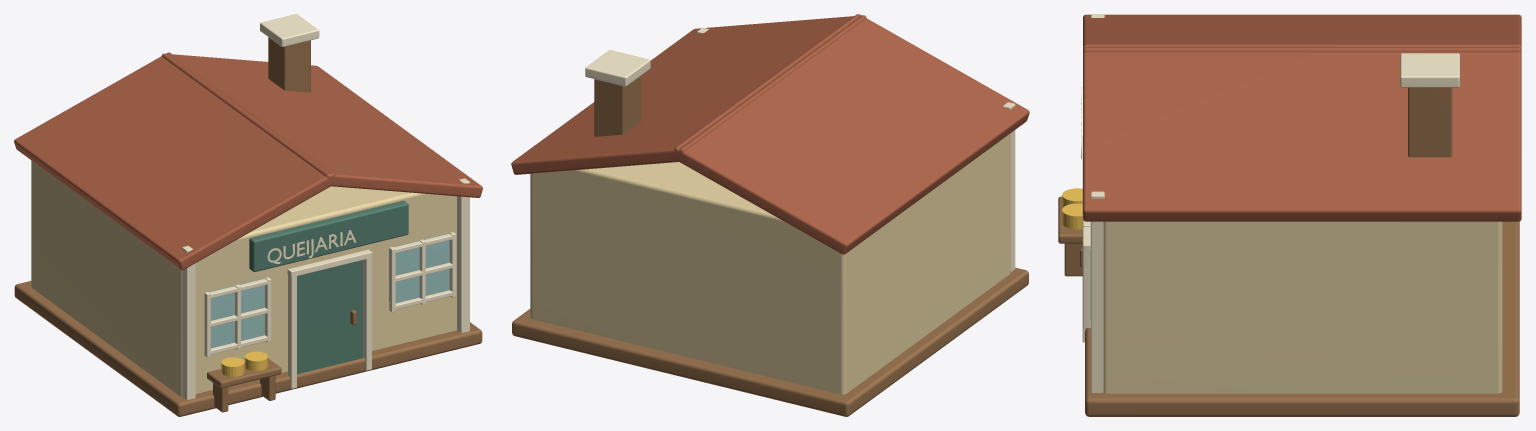
File: cheesery.glb
3 renders of one model, left to right at view 1: azimuth 30°, elevation 25°; view 2: azimuth 150°, elevation 25°; view 3: azimuth 270°, elevation 25°, orthographic. The views are drawn at different scales.
Parts seen in each view (by area): view 1: Walls, Roof, Roof.001, Foundation, Door, Sign, Window.001, Window, Chimney, CornerTrim, CornerTrim.001, ChimneyCap (+9 smaller); view 2: Walls, Roof, Roof.001, Foundation, Chimney, ChimneyCap, CornerTrim; view 3: Roof.001, Walls, Roof, Foundation, Chimney, CornerTrim.001, ChimneyCap, WindowFrame.008, BenchLeg.001, Bench, CheeseWheel.001.
Part boxes in pixels (box(x1,y1,x2,y2)): Walls: box(31, 160, 456, 396); Roof: box(14, 52, 335, 270); Roof.001: box(161, 53, 482, 197); Foundation: box(14, 281, 482, 416); Door: box(297, 260, 362, 374); Sign: box(249, 200, 408, 271); Window.001: box(389, 234, 449, 303); Window: box(208, 279, 264, 348); Chimney: box(268, 37, 310, 92); CornerTrim: box(182, 245, 195, 399); CornerTrim.001: box(457, 178, 469, 333); ChimneyCap: box(260, 14, 319, 46); Walls: box(530, 133, 1010, 394); Roof: box(674, 14, 1029, 254); Roof.001: box(511, 15, 866, 174); Foundation: box(512, 267, 1028, 416); Chimney: box(594, 76, 641, 136); ChimneyCap: box(585, 50, 650, 86); CornerTrim: box(1003, 102, 1015, 271); Roof.001: box(1083, 44, 1521, 221); Walls: box(1103, 221, 1502, 393); Roof: box(1083, 14, 1521, 52); Foundation: box(1085, 221, 1519, 416); Chimney: box(1408, 87, 1452, 157); CornerTrim.001: box(1091, 191, 1104, 392); ChimneyCap: box(1400, 53, 1459, 87); WindowFrame.008: box(1083, 243, 1090, 328); BenchLeg.001: box(1064, 243, 1082, 276); Bench: box(1058, 196, 1082, 243); CheeseWheel.001: box(1062, 203, 1082, 229).
Size of the model in its own units: 5.45 by 4.06 by 5.44.
